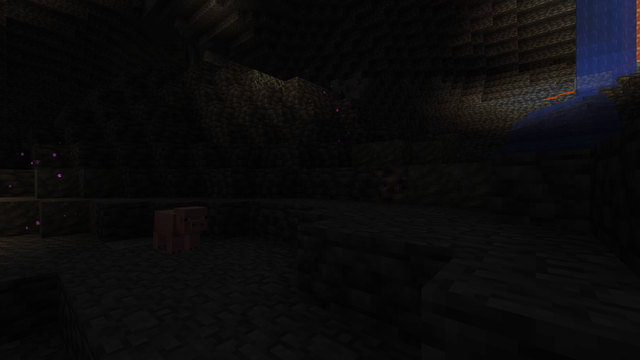cochons: (149, 207, 205, 255)
